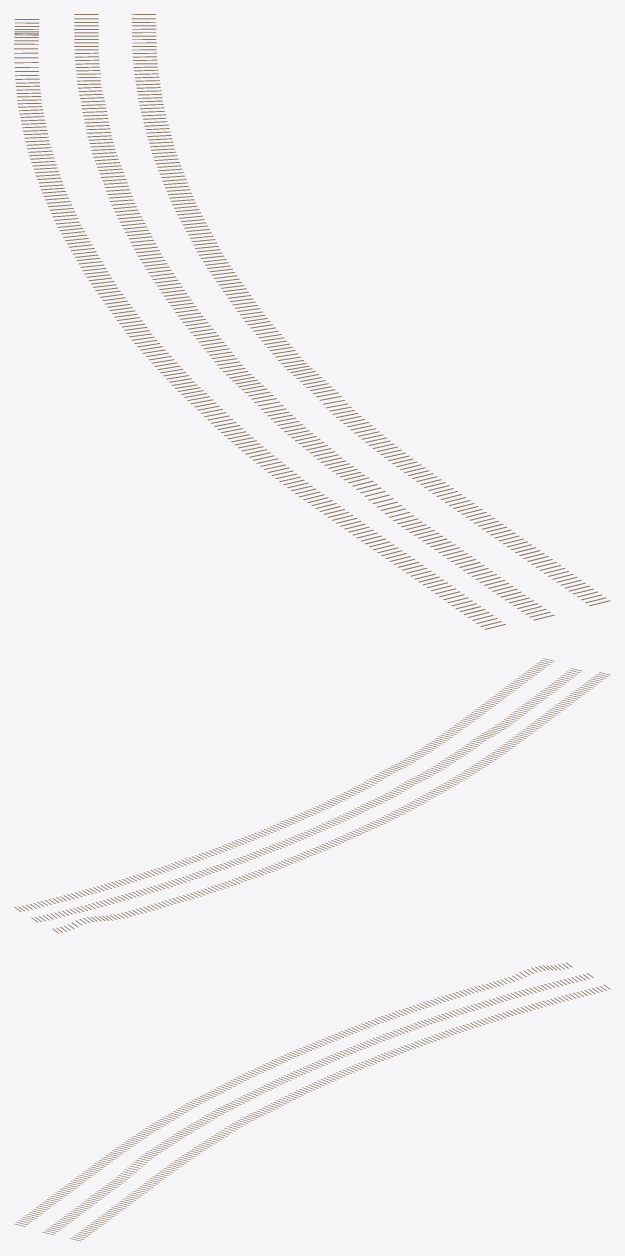
File: c_1626_17823_rail_sleeper.glb
3 renders of one model, top to bottom at view 1: azimuth 30°, elevation 25°; view 2: azimuth 150°, elevation 25°; view 3: azimuth 330°, elevation 25°, orthographic. The views are drawn at different scales.
Parts seen in each view (by area): view 1: geometry_0; view 2: geometry_0; view 3: geometry_0.
Part boxes in pixels (x1,y1,x2,y2): geometry_0: (14,14,610,629); geometry_0: (14,658,610,933); geometry_0: (14,962,610,1241).
Size of the model in its own units: 43.87 by 1.48 by 146.
